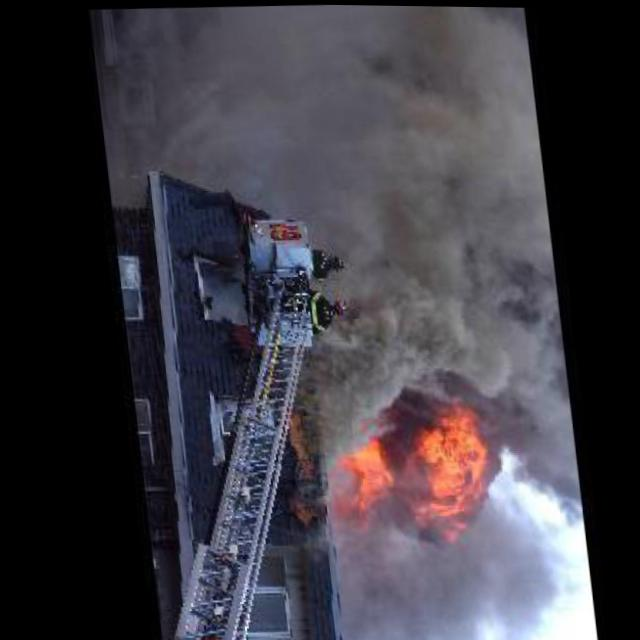Fire: (329, 277, 527, 422), (320, 400, 499, 537)
